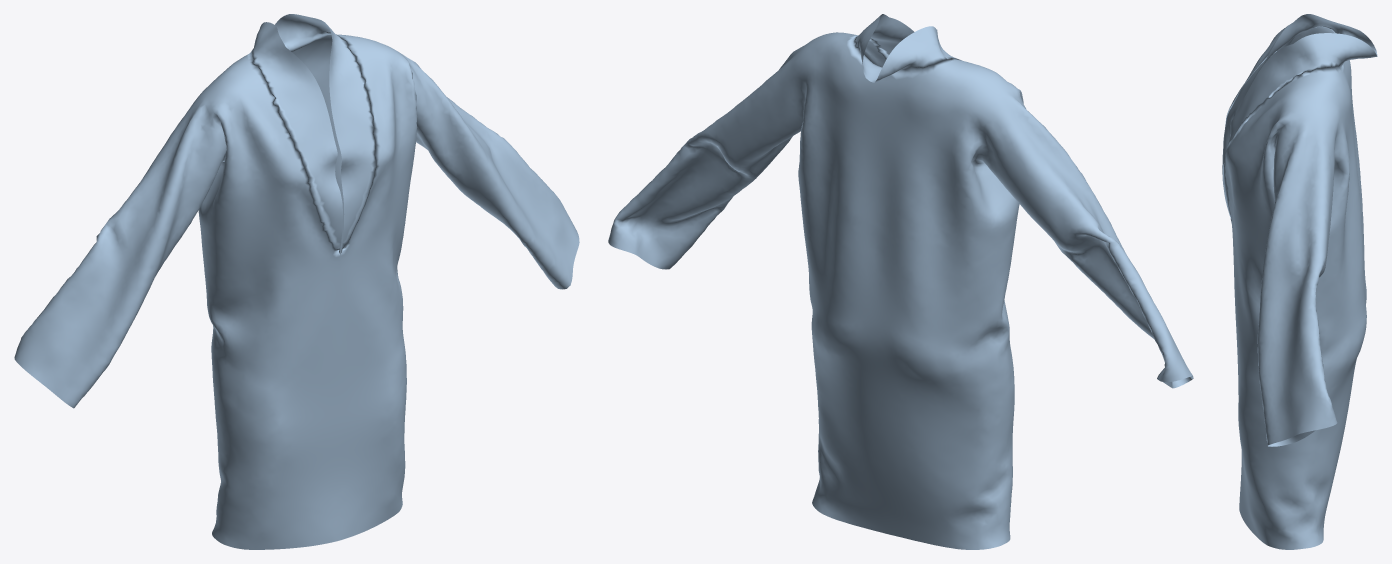
Rendered from coat_S.glb.
3 views of the same model, side by side, from view 1: azimuth 30°, elevation 25°; view 2: azimuth 150°, elevation 25°; view 3: azimuth 270°, elevation 25° (orthographic). The views are drawn at different scales.
Parts seen in each view (by area): view 1: geometry_0; view 2: geometry_0; view 3: geometry_0.
Boxes of the visible parts, x1,y1,x2,y2 form: geometry_0: (14,14,579,549); geometry_0: (608,14,1193,549); geometry_0: (1222,14,1377,549).
Bounding box in the file's own units: 1.2 × 1.01 × 0.2927.
